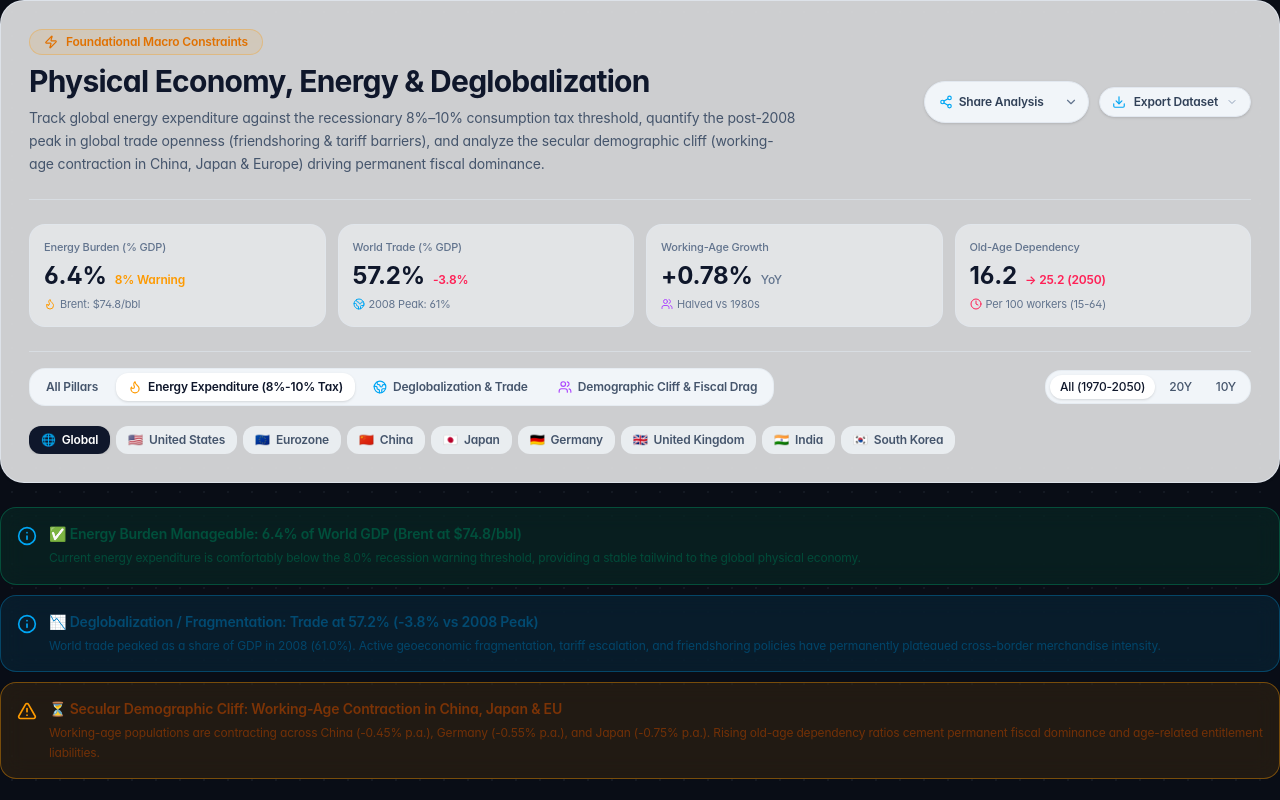
Scenario: PhysicalEconomyRadar Component › switches views to Deglobalization & Trade
Click the button "Deglobalization & Trade" at (450, 387), box [361,373,540,401]
(page scrolled)
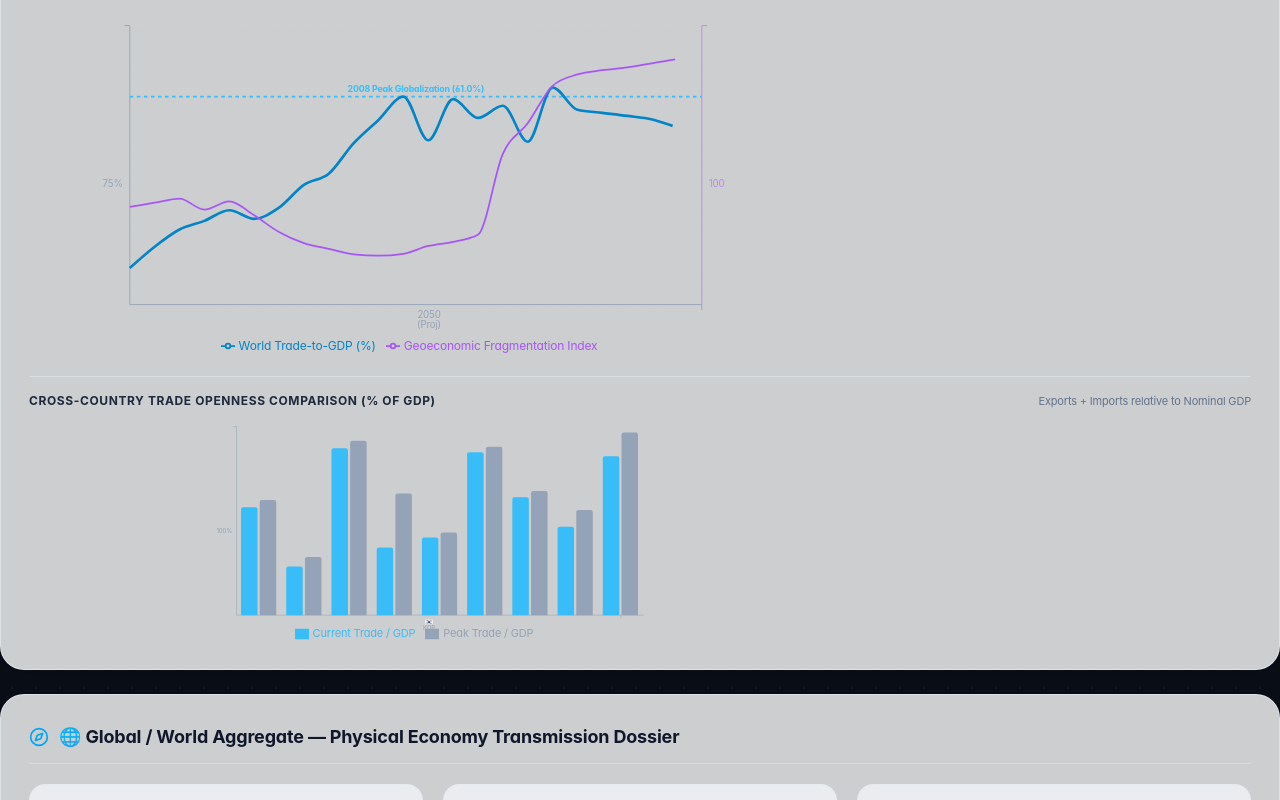
Check: the text "Cross-Country Trade Openness Comparison (% of GDP)" is shown, box [29,393,436,409]
